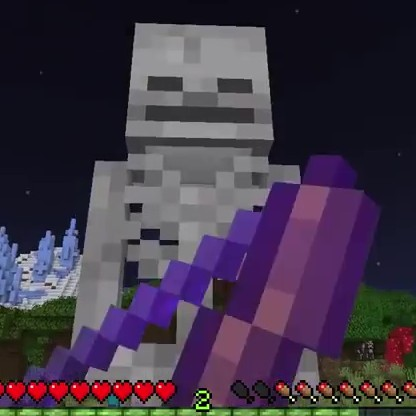skeleton: (110, 20, 281, 178)
